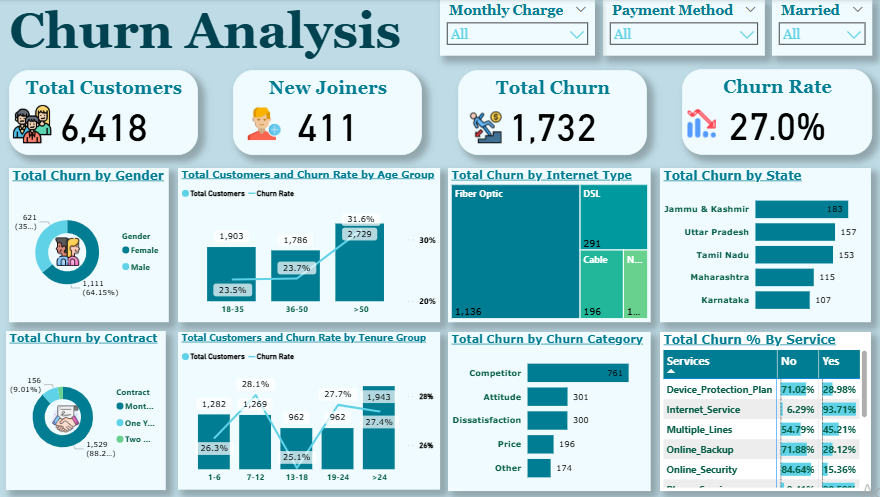

The dashboard page shown, as its layout file describes it:
{"tool":"powerbi","page":{"name":"Report","canvas":[1280,720],"ordinal":0},"visuals":[{"type":"card","title":"Total Customers","fields":{"Values":["Measures .Total Customers"]},"box":[17.3,102.7,273.3,122.9],"z":0},{"type":"card","title":"New Joiners","fields":{"Values":["Measures .New Joiners"]},"box":[341.2,102.7,273.3,122.9],"z":1000},{"type":"card","title":"Total Churn","fields":{"Values":["Measures .Total Churn"]},"box":[666.5,102.7,273.3,122.9],"z":2000},{"type":"card","title":"Churn Rate","fields":{"Values":["Measures .Churn Rate"]},"box":[990.4,101.2,274.7,124.3],"z":3000},{"type":"textbox","box":[13.2,0,784.4,101.2],"z":4000},{"type":"donutChart","title":"Total Churn by Gender","fields":{"Category":["prod_Churn.Gender"],"Y":["Measures .Total Churn"]},"box":[17.3,244.3,231.3,222.7],"z":5000},{"type":"lineClusteredColumnComboChart","title":"Total Customers and Churn Rate by Age Group","fields":{"Category":["Age_Group.Age_Group"],"Y":["Measures .Total Customers"],"Y2":["Measures .Churn Rate"]},"box":[261.2,244.3,378.8,222.7],"z":6000},{"type":"treemap","title":"Total Churn by Internet Type","fields":{"Group":["prod_Churn.Internet_Type"],"Values":["Measures .Total Churn"]},"box":[652.5,244.3,293.5,222.7],"z":7000},{"type":"clusteredBarChart","title":"Total Churn  by State","fields":{"Category":["prod_Churn.State"],"Y":["Measures .Total Churn"]},"box":[958.6,244.3,305.1,222.7],"z":8000},{"type":"donutChart","title":"Total Churn by Contract","fields":{"Category":["prod_Churn.Contract"],"Y":["Measures .Total Churn"]},"box":[17.3,481.4,231.3,229.9],"z":9000},{"type":"lineClusteredColumnComboChart","title":"Total Customers and Churn Rate by Tenure Group","fields":{"Category":["Customer_Tenure_Group.Tenure_Group"],"Y":["Measures .Total Customers"],"Y2":["Measures .Churn Rate"]},"box":[261.2,481.4,378.8,228.4],"z":10000},{"type":"clusteredBarChart","title":"Total Churn by Churn Category","fields":{"Category":["prod_Churn.Churn_Category"],"Y":["Measures .Total Churn"]},"box":[652.5,481.4,293.5,229.9],"z":11000},{"type":"pivotTable","title":"Total Churn By Service","fields":{"Rows":["prod_Services.Services"],"Columns":["prod_Services.Value"],"Values":["Sum(prod_Services.Churn_Status)"]},"box":[958.6,481.4,305.1,229.9],"z":12000},{"type":"slicer","fields":{"Values":["prod_Churn.Payment_Method"]},"box":[875.4,0,234.2,82.4],"z":13000},{"type":"slicer","fields":{"Values":["prod_Churn.Married"]},"box":[1120.5,0,144.6,82.4],"z":14000},{"type":"slicer","fields":{"Values":["Monthly_Charge_Status.Monthly_Charge_Status"]},"box":[640.5,0,224.1,82.4],"z":15000},{"type":"image","box":[17.3,147.5,66.5,66.5],"z":16000},{"type":"image","box":[354.2,147.5,63.6,66.5],"z":17000},{"type":"image","box":[676.6,157.6,60.7,56.4],"z":18000},{"type":"image","box":[993.3,153.3,50.6,53.5],"z":19000},{"type":"image","box":[73.7,339.8,57.8,50.6],"z":20000},{"type":"image","box":[70.8,582.7,57.8,49.2],"z":21000}]}

Visuals, with their boxes in screenshot pixels (x1, y1, x2, y2), scaled from the page's 1280x720 canvas onto the 880x497 screenshot:
"Total Customers" card: Rect(12, 71, 200, 156)
"New Joiners" card: Rect(235, 71, 422, 156)
"Total Churn" card: Rect(458, 71, 646, 156)
"Churn Rate" card: Rect(681, 70, 870, 156)
textbox: Rect(9, 0, 548, 70)
"Total Churn by Gender" donutChart: Rect(12, 169, 171, 322)
"Total Customers and Churn Rate by Age Group" lineClusteredColumnComboChart: Rect(180, 169, 440, 322)
"Total Churn by Internet Type" treemap: Rect(449, 169, 650, 322)
"Total Churn  by State" clusteredBarChart: Rect(659, 169, 869, 322)
"Total Churn by Contract" donutChart: Rect(12, 332, 171, 491)
"Total Customers and Churn Rate by Tenure Group" lineClusteredColumnComboChart: Rect(180, 332, 440, 490)
"Total Churn by Churn Category" clusteredBarChart: Rect(449, 332, 650, 491)
"Total Churn By Service" pivotTable: Rect(659, 332, 869, 491)
slicer - prod_Churn.Payment_Method: Rect(602, 0, 763, 57)
slicer - prod_Churn.Married: Rect(770, 0, 870, 57)
slicer - Monthly_Charge_Status.Monthly_Charge_Status: Rect(440, 0, 594, 57)
image: Rect(12, 102, 58, 148)
image: Rect(244, 102, 287, 148)
image: Rect(465, 109, 507, 148)
image: Rect(683, 106, 718, 143)
image: Rect(51, 235, 90, 269)
image: Rect(49, 402, 88, 436)
